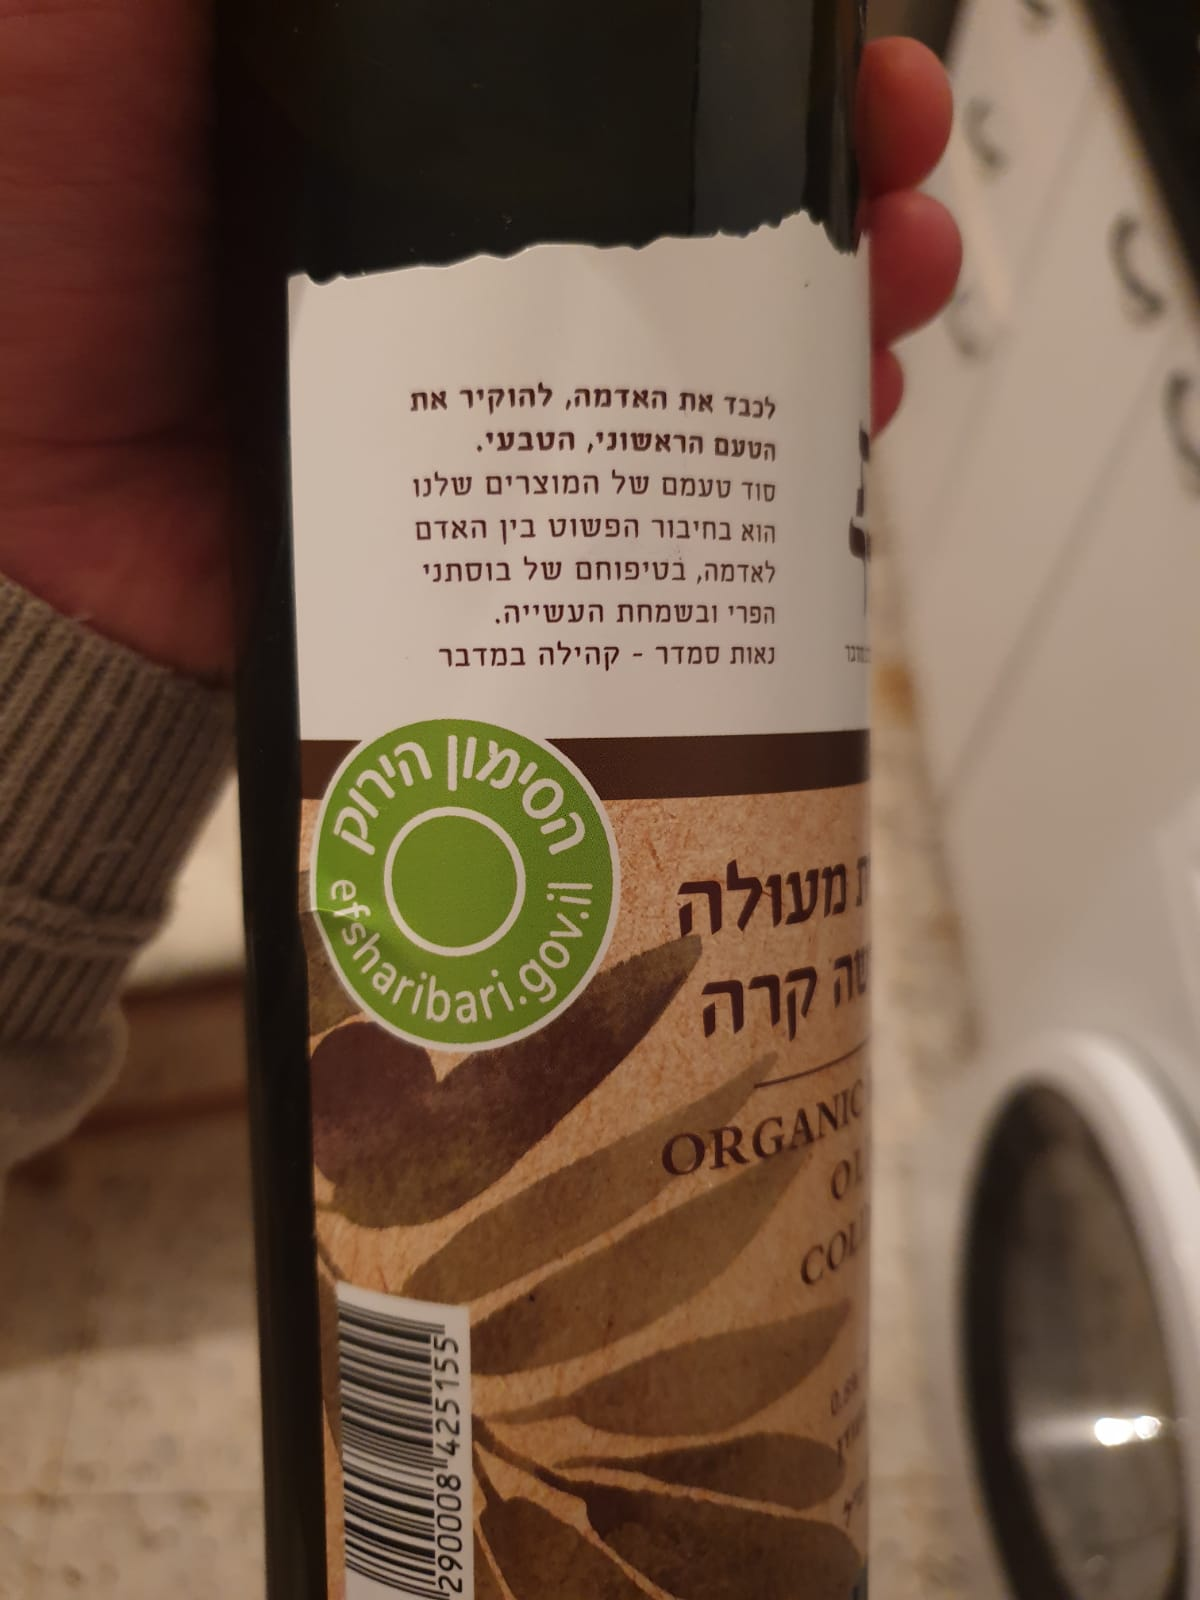green: (313, 716, 624, 1053)
